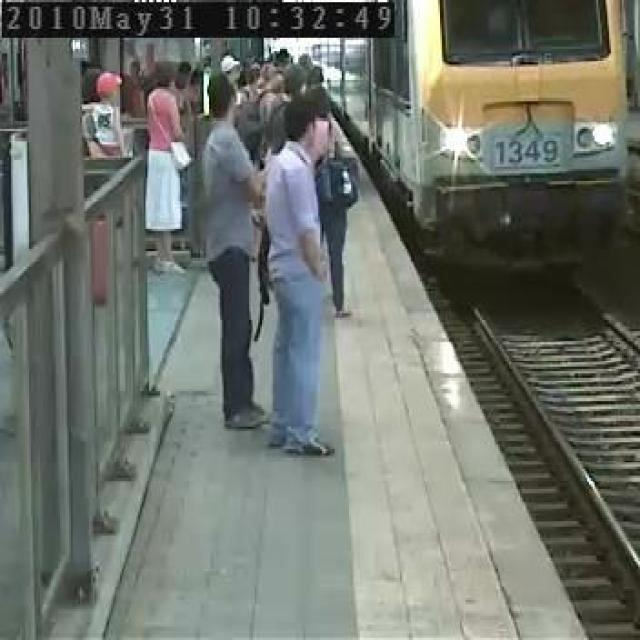other: (436, 100, 478, 181), (579, 114, 619, 156)
